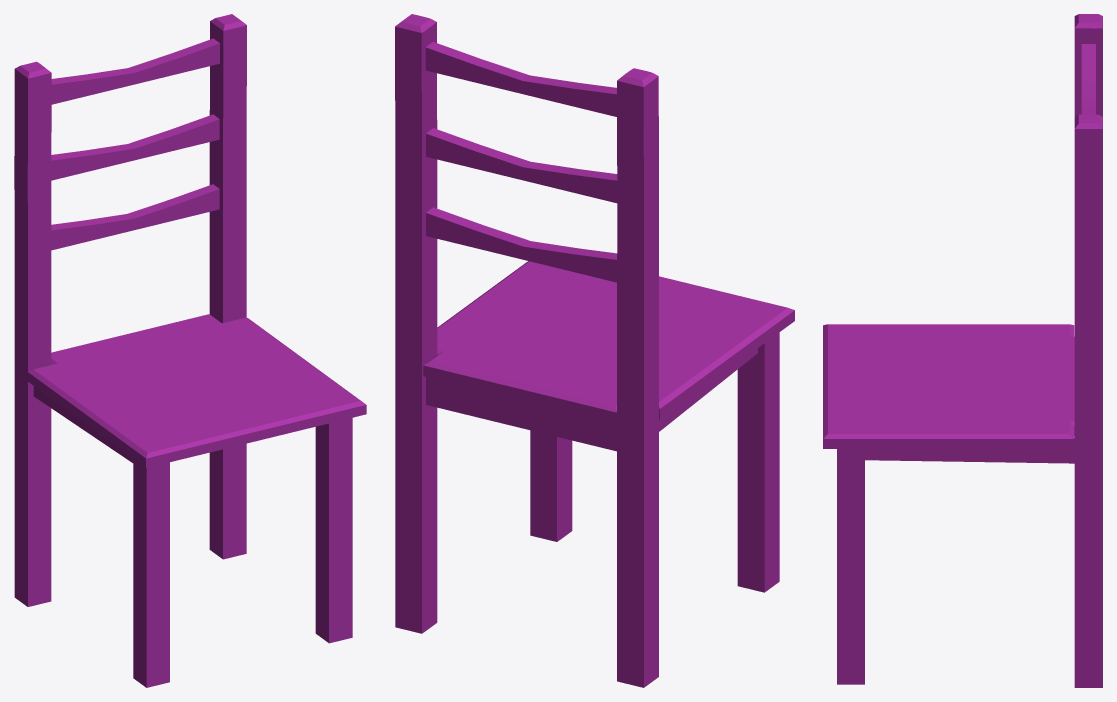
Rendered from silla.fbx.
3 renders of one model, left to right at view 1: azimuth 30°, elevation 25°; view 2: azimuth 150°, elevation 25°; view 3: azimuth 270°, elevation 25°, orthographic. The views are drawn at different scales.
Visible parts, largest first — view 1: silla; view 2: silla; view 3: silla.
Boxes of the visible parts, bbox=[...] form: silla: bbox=[14, 14, 366, 687]; silla: bbox=[395, 14, 794, 687]; silla: bbox=[823, 14, 1102, 687].
Bounding box in the file's own units: 1.08 × 2.5 × 1.13.
